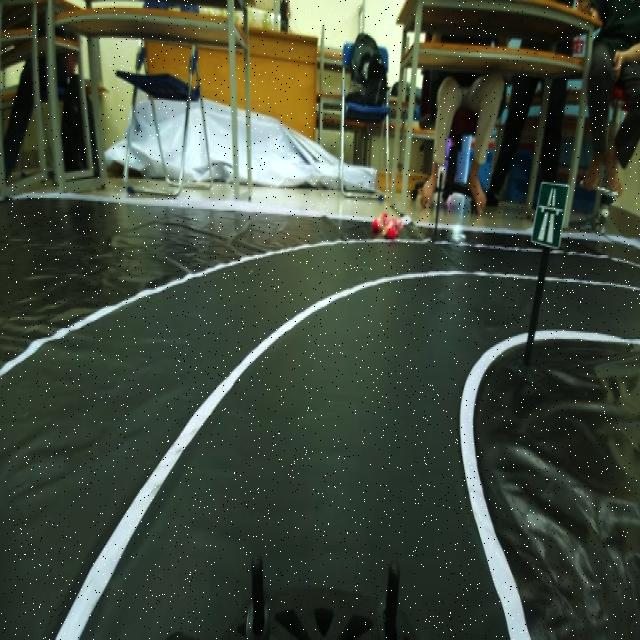highway_entry: (532, 173, 574, 252)
